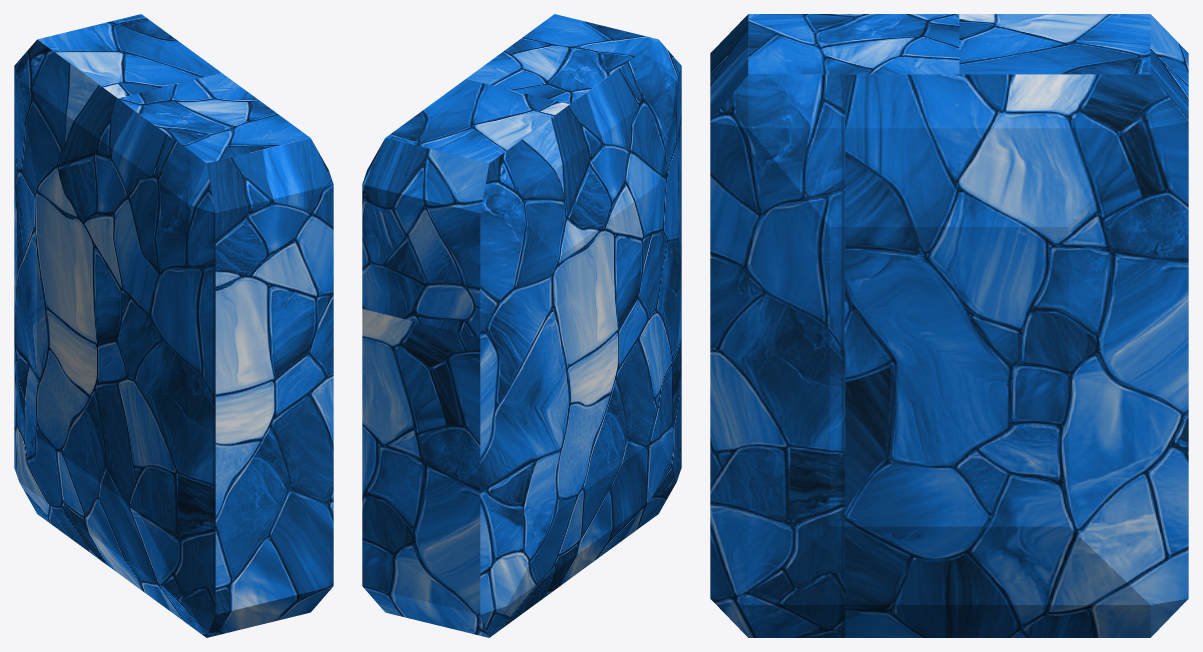
Rendered from gemstone6Blue.glb.
3 views of the same model, side by side, from view 1: azimuth 30°, elevation 25°; view 2: azimuth 150°, elevation 25°; view 3: azimuth 270°, elevation 25° (orthographic). The views are drawn at different scales.
Visible parts, largest first — view 1: gemstone5; view 2: gemstone5; view 3: gemstone5.
Boxes of the visible parts, x1,y1,x2,y2 form: gemstone5: (14,14,333,637); gemstone5: (362,14,681,637); gemstone5: (710,14,1188,637).
Bounding box in the file's own units: 0.5 × 1.3 × 1.
Materials: 1 (1 with a texture image).
